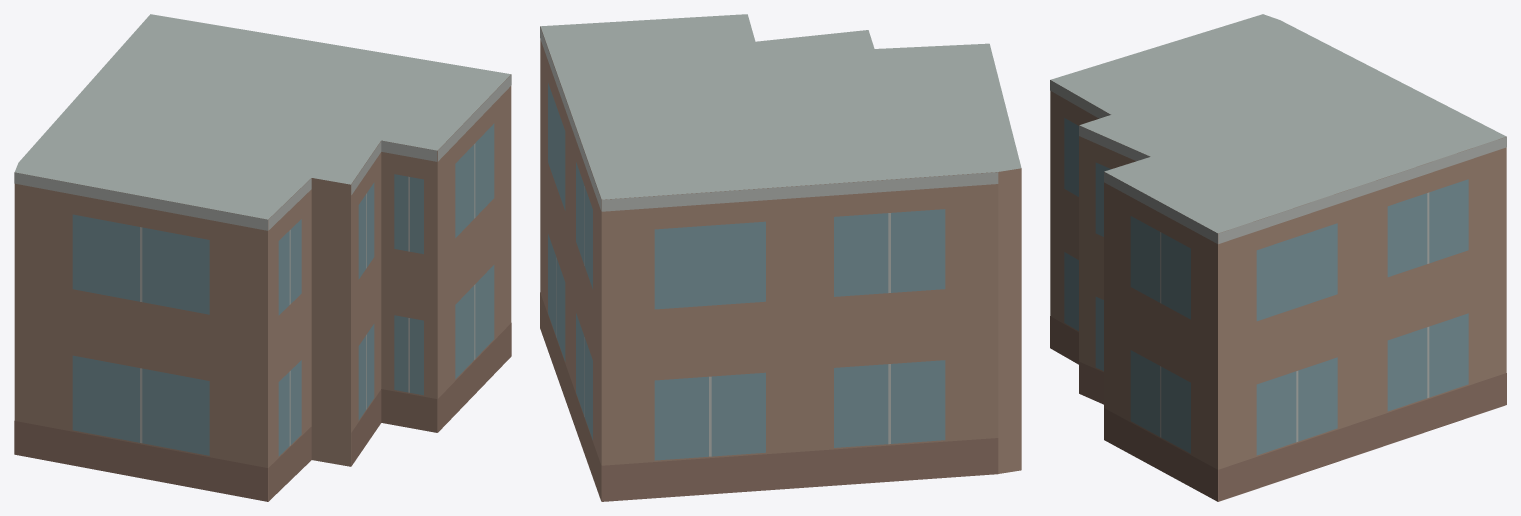
File: survey-upis-32733974.glb
3 renders of one model, left to right at view 1: azimuth 30°, elevation 25°; view 2: azimuth 150°, elevation 25°; view 3: azimuth 270°, elevation 25°, orthographic. The views are drawn at different scales.
Parts seen in each view (by area): view 1: survey-upis-32733974.tmp; view 2: survey-upis-32733974.tmp; view 3: survey-upis-32733974.tmp.
Boxes of the visible parts, x1=… form: survey-upis-32733974.tmp: x1=14, y1=14, x2=511, y2=501; survey-upis-32733974.tmp: x1=540, y1=14, x2=1021, y2=501; survey-upis-32733974.tmp: x1=1050, y1=14, x2=1506, y2=501.
Size of the model in its own units: 10.71 by 6.1 by 9.41.
